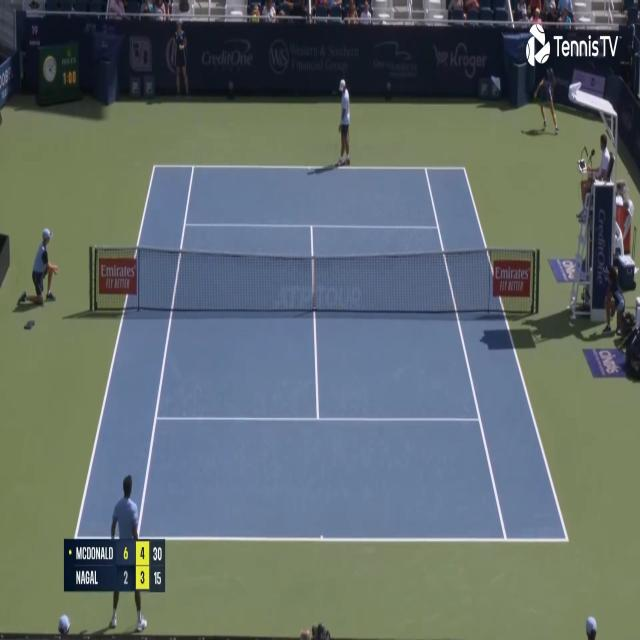tennis-player: (108, 470, 148, 636), (334, 74, 352, 168)
